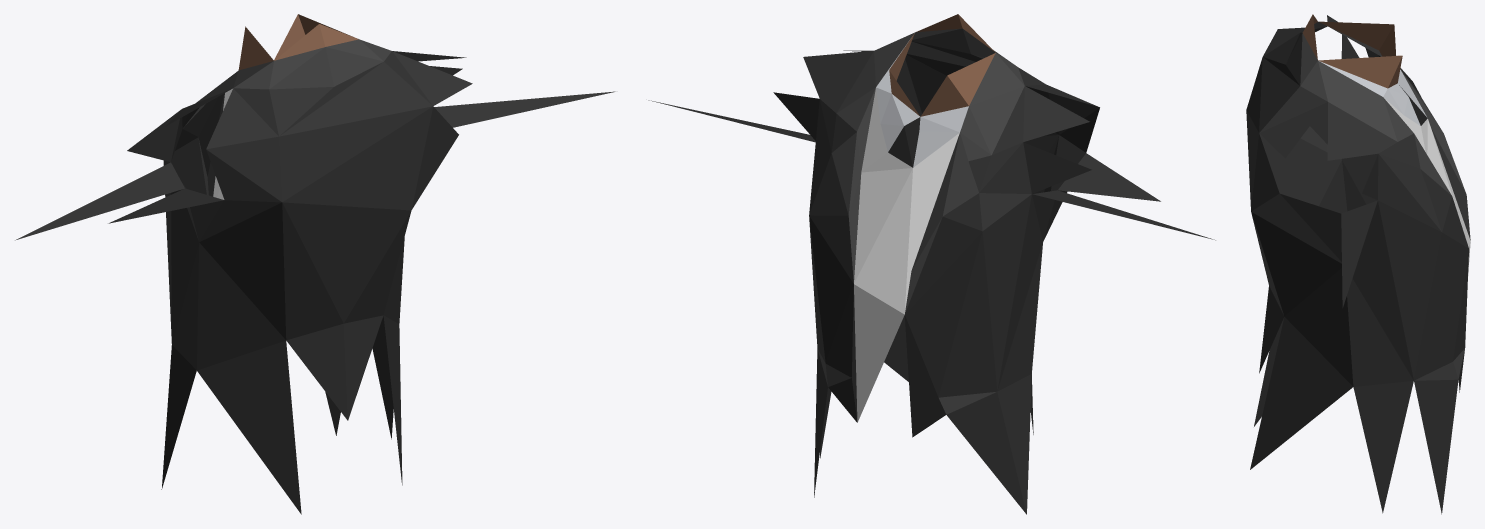
File: Torso.obj
3 renders of one model, left to right at view 1: azimuth 30°, elevation 25°; view 2: azimuth 150°, elevation 25°; view 3: azimuth 270°, elevation 25°, orthographic. The views are drawn at different scales.
Size of the model in its own units: 1.04 by 0.7942 by 0.3499.
1 material, 1 textured.
